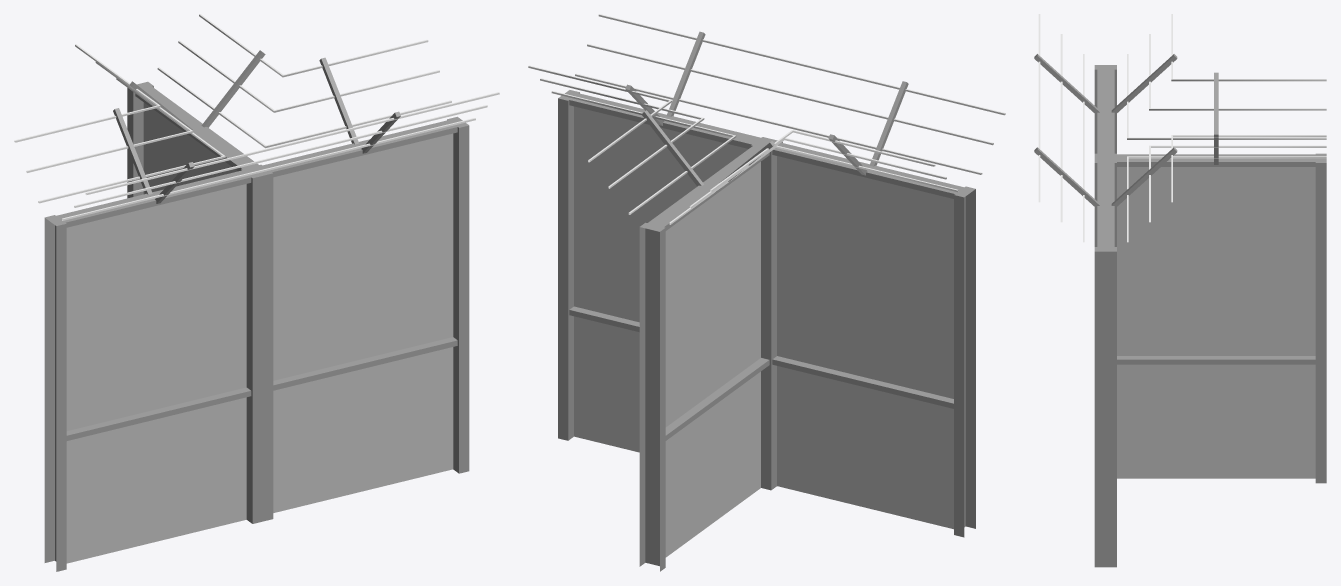
File: SM_Grid_Corner_A_400.FBX
3 views of the same model, side by side, from view 1: azimuth 30°, elevation 25°; view 2: azimuth 150°, elevation 25°; view 3: azimuth 270°, elevation 25° (orthographic). The views are drawn at different scales.
Parts seen in each view (by area): view 1: SM_Grid_Corner_A_400; view 2: SM_Grid_Corner_A_400; view 3: SM_Grid_Corner_A_400.
Part boxes in pixels (x1,y1,x2,y2): SM_Grid_Corner_A_400: (14,14,499,571); SM_Grid_Corner_A_400: (528,14,1005,571); SM_Grid_Corner_A_400: (1034,14,1326,567).
Bounding box in the file's own units: 400 × 265 × 377.
